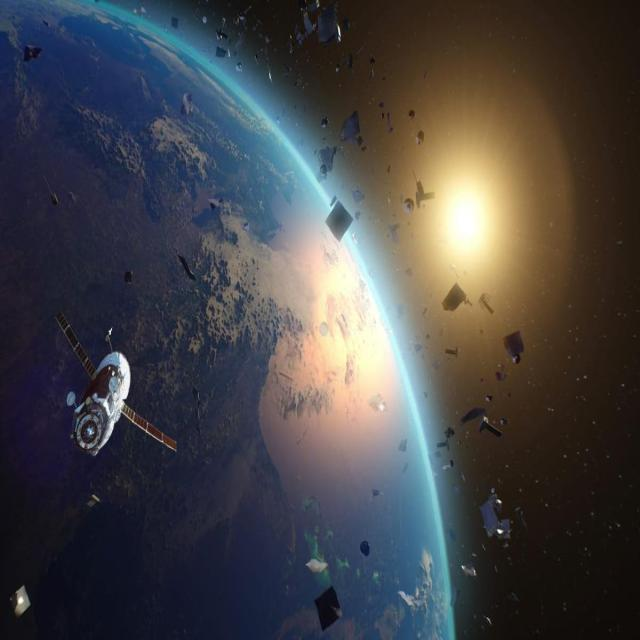large_debris: (302, 0, 341, 45), (481, 489, 511, 540), (315, 587, 342, 632), (460, 408, 502, 436), (325, 200, 354, 240), (340, 109, 363, 145), (8, 586, 30, 622), (505, 330, 525, 364), (443, 282, 467, 310), (416, 176, 436, 207), (175, 250, 196, 279), (318, 146, 336, 175), (43, 174, 58, 204), (253, 19, 270, 42), (367, 393, 388, 411), (192, 385, 200, 432), (479, 292, 495, 314), (516, 507, 529, 532), (306, 559, 328, 573), (23, 44, 42, 60), (181, 92, 192, 115), (387, 224, 400, 243), (234, 31, 245, 53), (238, 3, 252, 20), (462, 564, 477, 578), (85, 495, 100, 509), (451, 587, 461, 608), (352, 188, 365, 202), (446, 528, 457, 544), (209, 198, 223, 210), (404, 197, 415, 212), (361, 541, 371, 557), (387, 111, 394, 133), (445, 427, 456, 440), (215, 27, 228, 38), (446, 346, 458, 357), (416, 129, 425, 143), (297, 30, 306, 44), (496, 371, 508, 381), (216, 46, 228, 56), (398, 439, 407, 452), (283, 62, 292, 75), (394, 303, 403, 316), (286, 35, 292, 52), (484, 616, 493, 627), (339, 150, 348, 161), (124, 271, 132, 283), (372, 489, 384, 497), (330, 195, 338, 207), (453, 485, 461, 497), (414, 343, 423, 353), (171, 15, 178, 27), (443, 463, 453, 471), (349, 52, 354, 68), (434, 359, 441, 370), (405, 267, 413, 276), (388, 197, 392, 214), (221, 17, 227, 28), (437, 442, 447, 448), (439, 327, 445, 337), (356, 45, 364, 52), (236, 61, 242, 70), (409, 108, 415, 117), (322, 118, 328, 127), (355, 210, 361, 219), (255, 51, 259, 64), (486, 394, 493, 401), (501, 418, 508, 425), (269, 65, 272, 81), (294, 79, 302, 85), (302, 103, 307, 112), (370, 67, 374, 78), (379, 101, 385, 108), (281, 106, 285, 116), (202, 15, 207, 22), (410, 341, 413, 352), (371, 54, 375, 62), (336, 63, 340, 71), (387, 164, 391, 172), (276, 115, 280, 123), (400, 193, 403, 203), (362, 145, 367, 150), (426, 334, 431, 339), (423, 392, 428, 397), (392, 211, 395, 219), (382, 111, 385, 118), (314, 148, 317, 154), (481, 378, 485, 382), (295, 122, 298, 126), (323, 137, 326, 140), (261, 47, 263, 50)
satellite: (55, 313, 176, 456)
